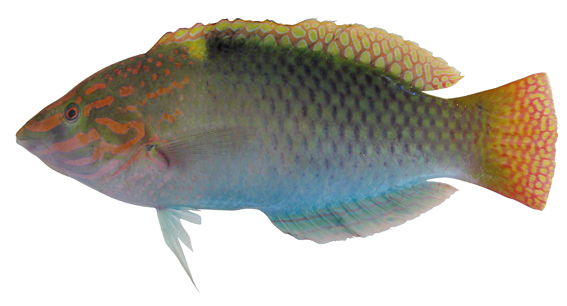fish: (15, 17, 559, 293)
